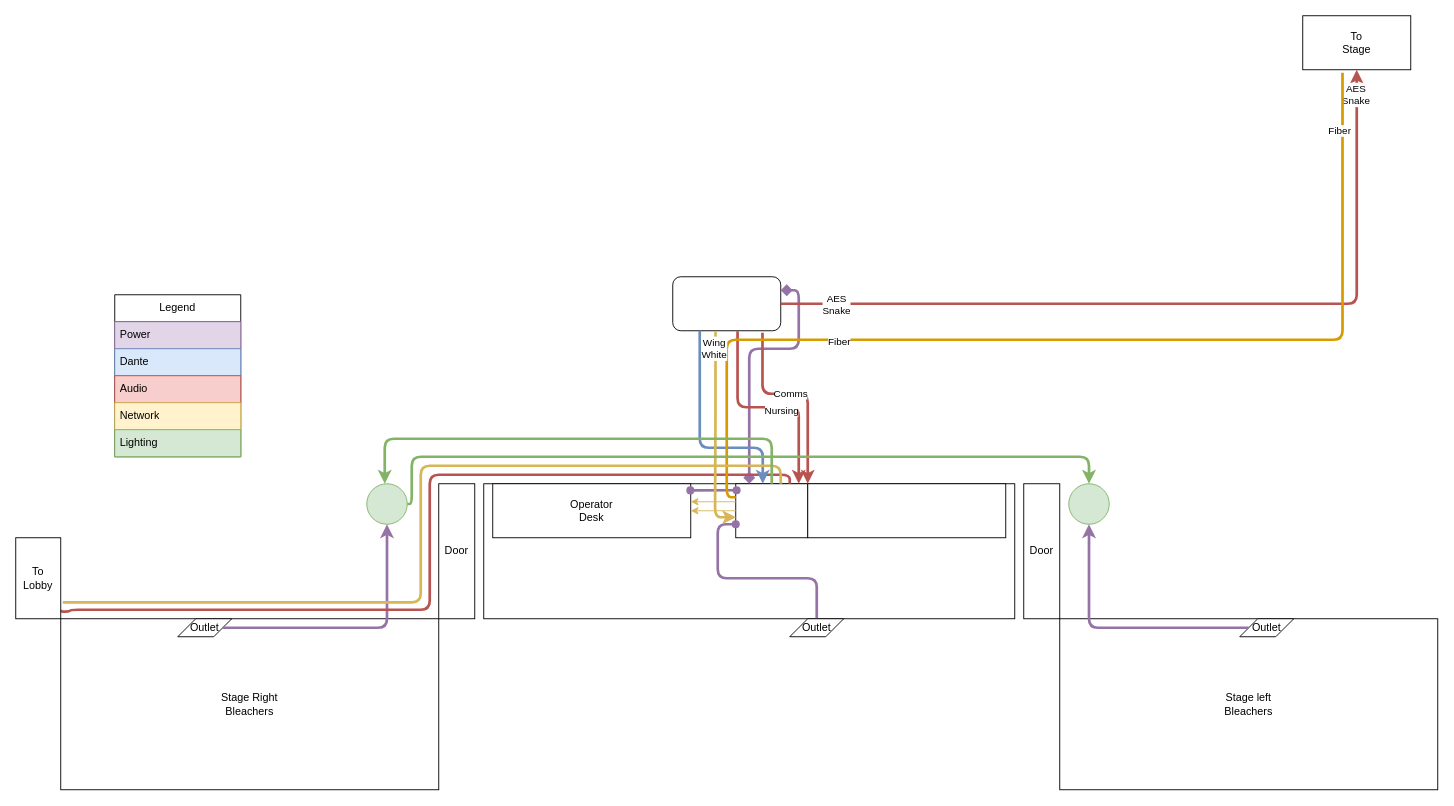
The diagram is 1454 pixels wide and 806 high, and some of its shapes have lost their labels. The centre of each missing label's shape, as x and y in pixels:
"Megadesk" goes at (906,510).
"Rack" goes at (771,510).
"SL Mover" goes at (1088,503).
"SR Mover" goes at (386,503).
"Wing" goes at (726,303).
